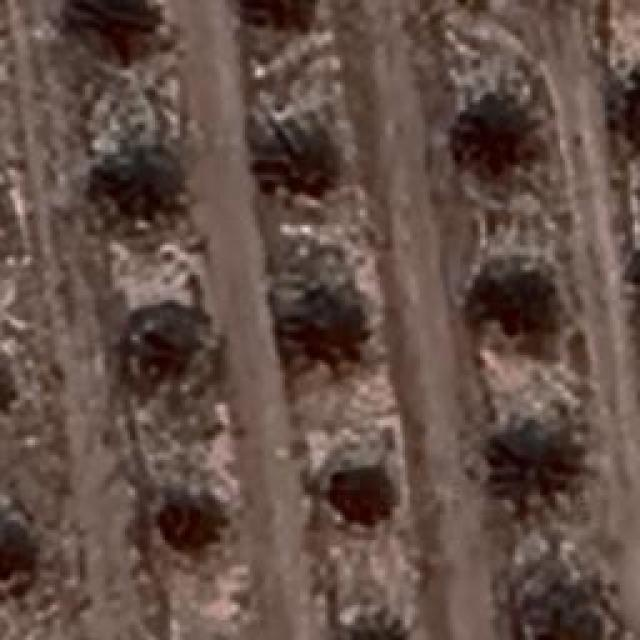PalmTree: (266, 267, 379, 385), (480, 421, 575, 509), (252, 118, 348, 202), (86, 152, 194, 226), (455, 92, 550, 176), (120, 298, 212, 382), (66, 0, 172, 65), (478, 262, 556, 346), (317, 448, 405, 520), (508, 590, 626, 640), (154, 500, 228, 560), (326, 603, 414, 640), (0, 520, 40, 595), (238, 0, 319, 33), (0, 352, 27, 421)
